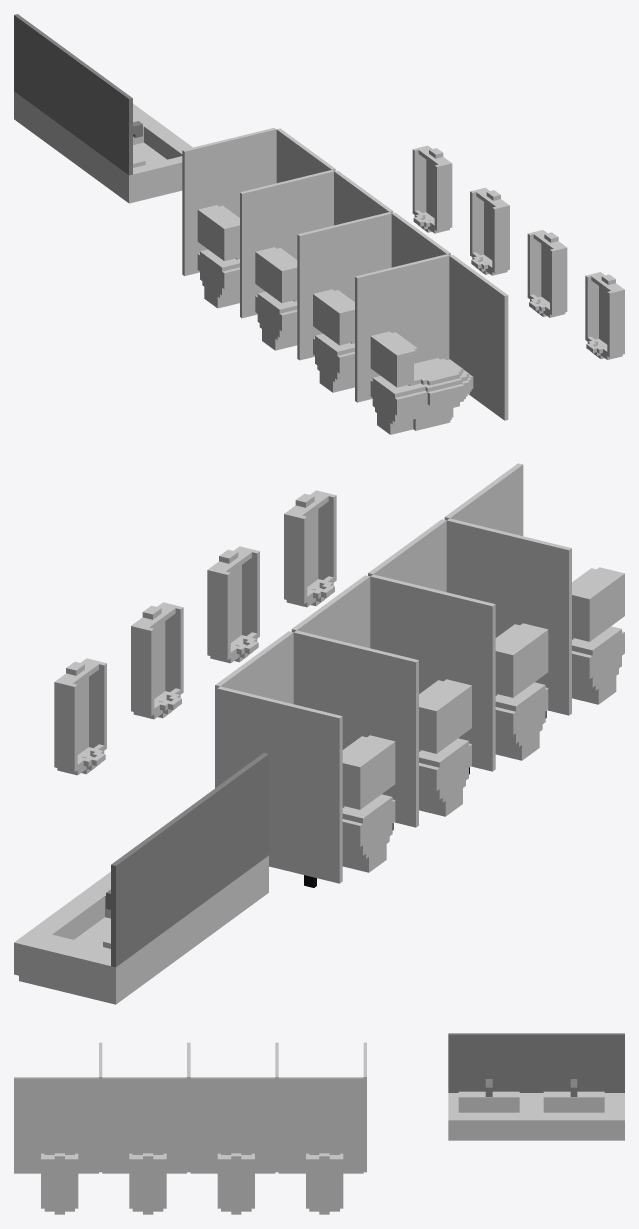
The model's file is shop-0.obj.
The picture shows the model from 3 angles, top to bottom: view 1: azimuth 30°, elevation 25°; view 2: azimuth 150°, elevation 25°; view 3: azimuth 270°, elevation 25°; orthographic projection. The views are drawn at different scales.
Size of the model in its own units: 6 by 3.6 by 18.
Materials: 1 (1 with a texture image).
